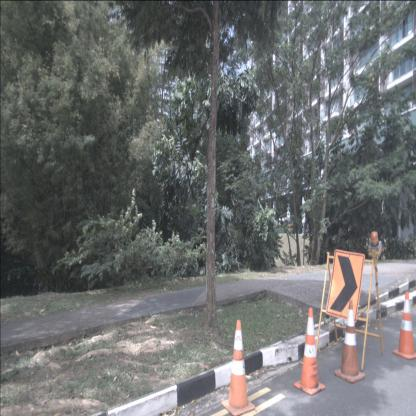cone: (221, 320, 256, 416), (294, 308, 325, 396), (334, 299, 365, 384), (392, 292, 416, 360)
